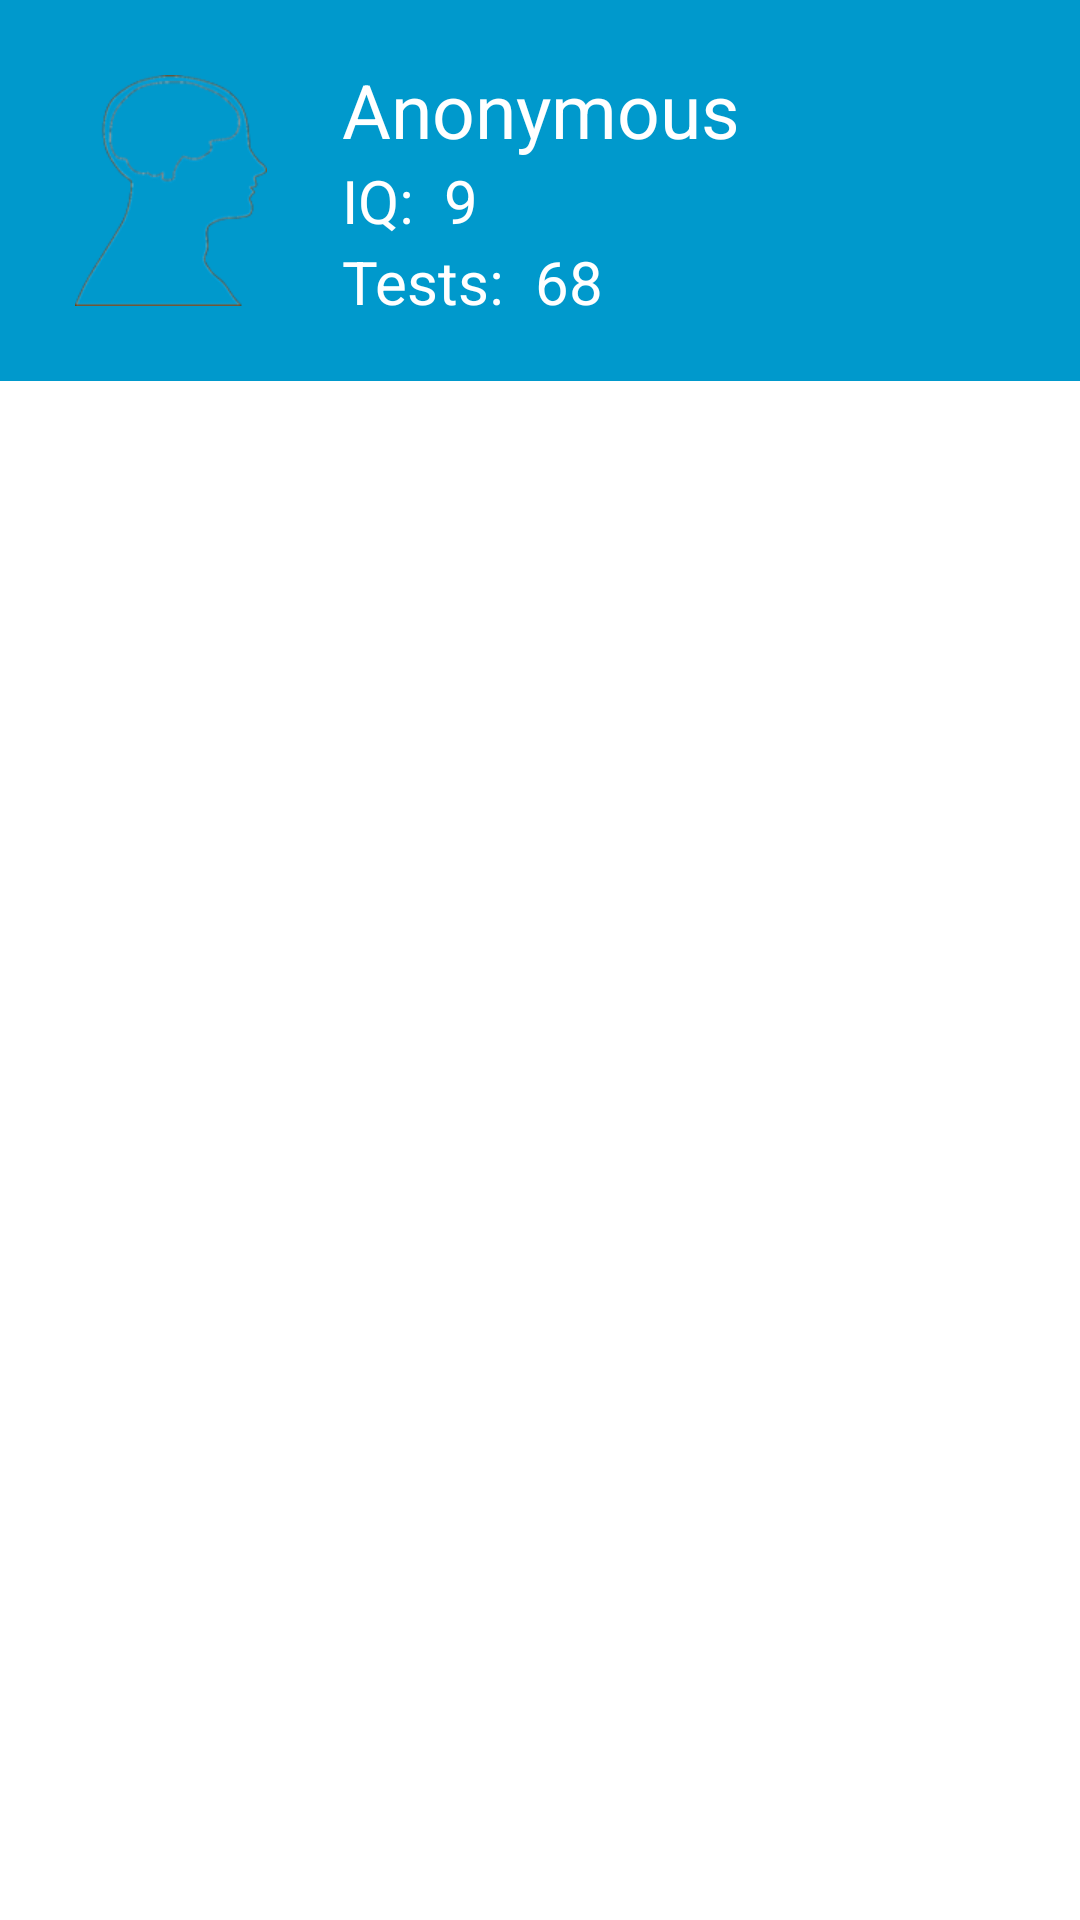

Where to tap for icons on this 1080×1920 app screen, as (x=x, y=y):
user: (x=171, y=190)
